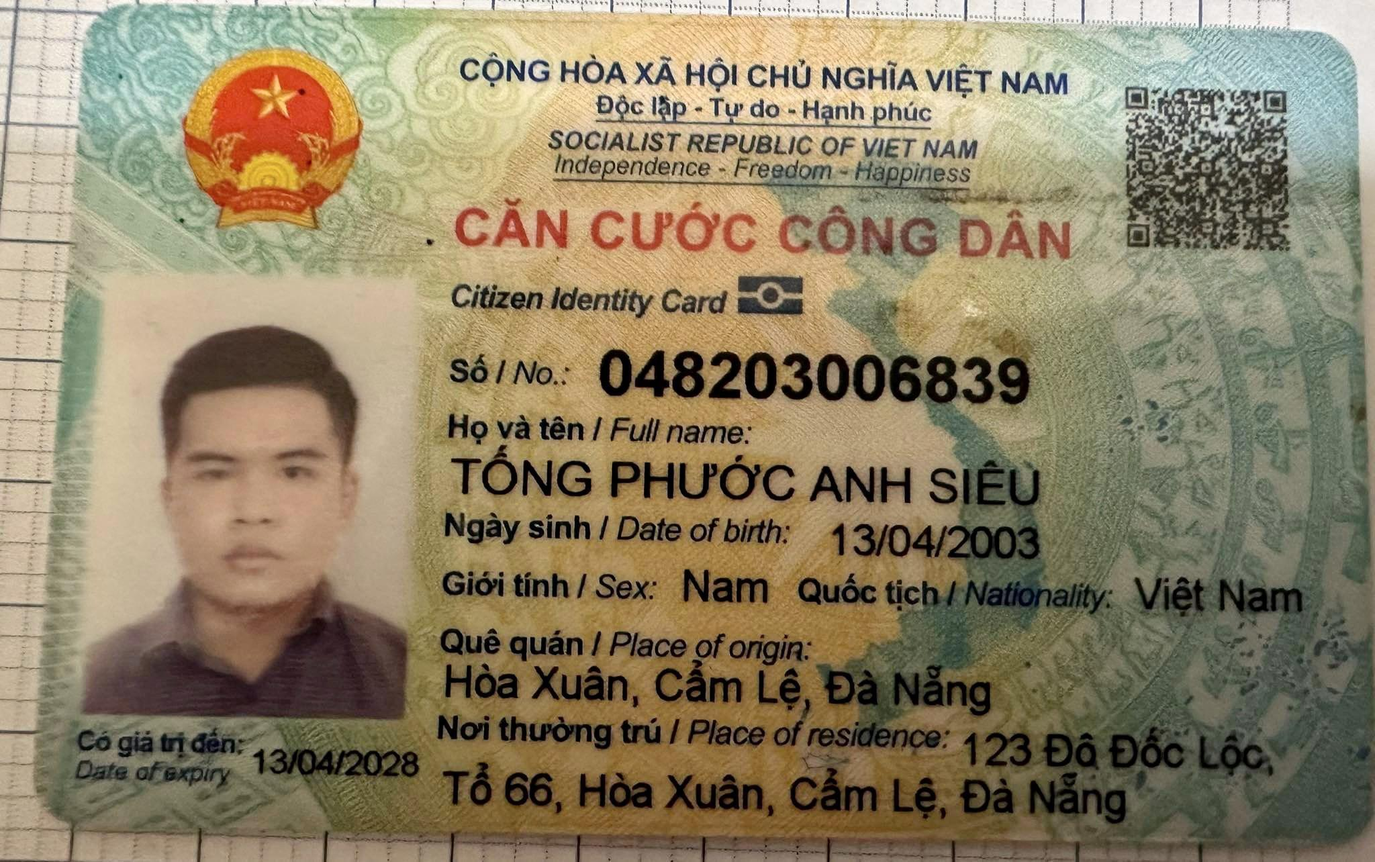ID: (592, 333, 1037, 417)
birth: (821, 512, 1053, 570)
name: (450, 445, 1048, 514)
place: (438, 653, 1014, 721)
residence: (429, 760, 1135, 831), (955, 720, 1291, 781)
